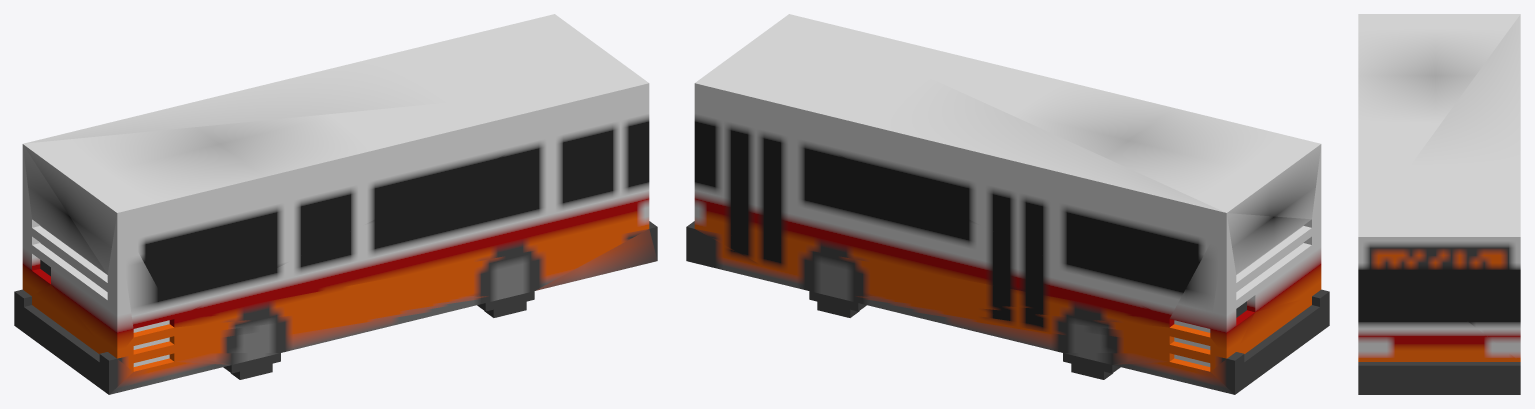
File: veh_bus.dae
The picture shows the model from 3 angles, left to right: view 1: azimuth 30°, elevation 25°; view 2: azimuth 150°, elevation 25°; view 3: azimuth 270°, elevation 25°; orthographic projection. The views are drawn at different scales.
Visible parts, largest first — view 1: veh_bus; view 2: veh_bus; view 3: veh_bus.
Part boxes in pixels (box(x1,y1,x2,y2)): veh_bus: box(14, 14, 657, 394); veh_bus: box(686, 14, 1329, 394); veh_bus: box(1358, 14, 1520, 394).
Size of the model in its own units: 6.7 by 2 by 2.3.
1 material, 1 textured.
